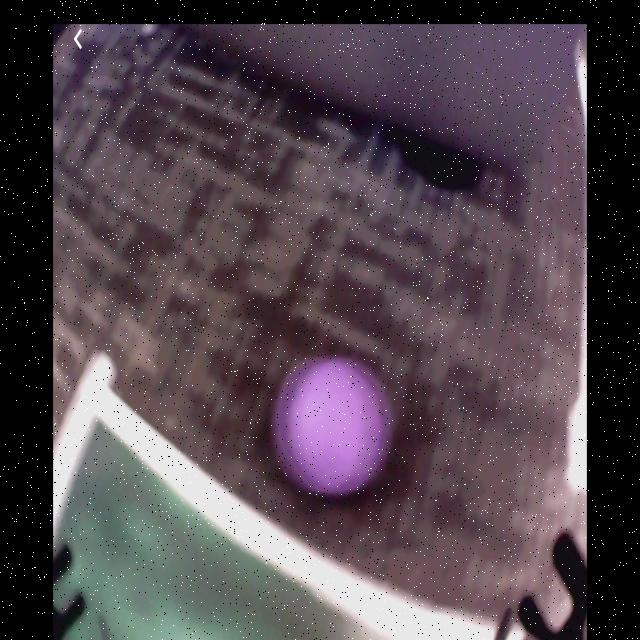ball: (288, 359, 385, 493)
